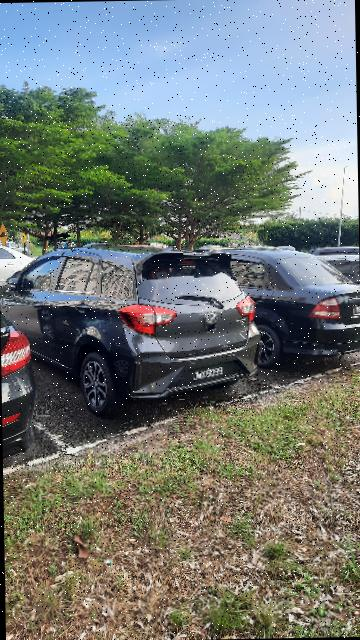License_Plate: (185, 360, 232, 386)
car: (1, 245, 258, 416), (200, 244, 360, 374)
